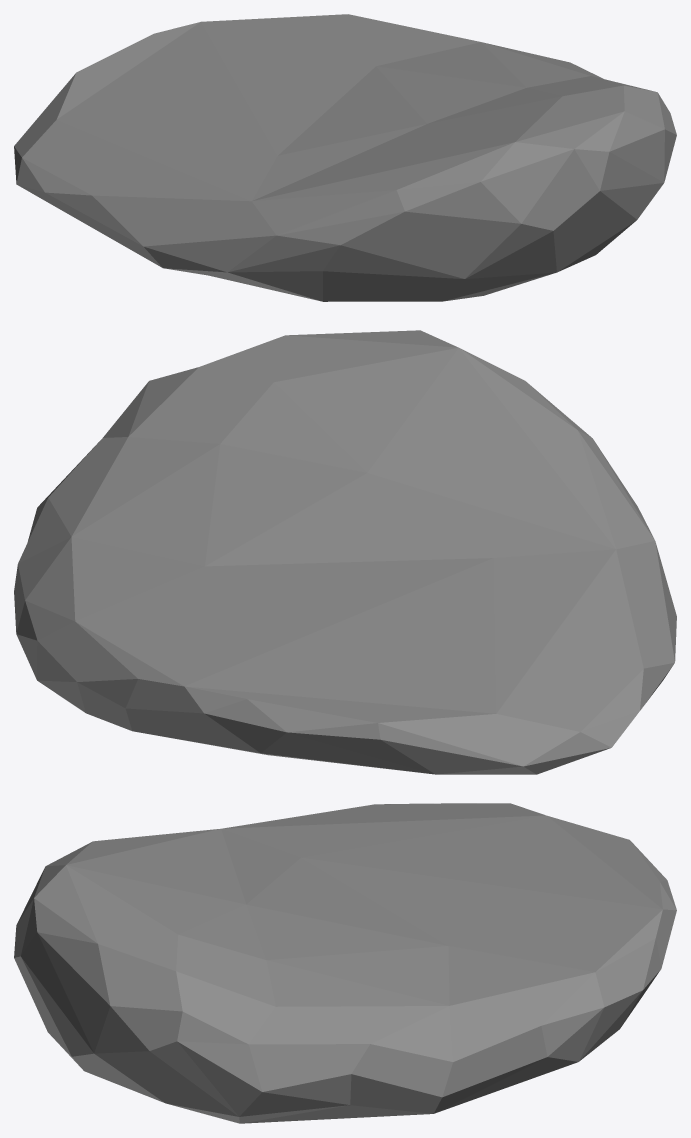
Rendered from Rock_Small_2.glb.
The picture shows the model from 3 angles, top to bottom: view 1: azimuth 30°, elevation 25°; view 2: azimuth 150°, elevation 25°; view 3: azimuth 270°, elevation 25°; orthographic projection. The views are drawn at different scales.
Parts seen in each view (by area): view 1: Rock_Small_2; view 2: Rock_Small_2; view 3: Rock_Small_2.
Part boxes in pixels (x1=…): Rock_Small_2: x1=14, y1=14, x2=676, y2=301; Rock_Small_2: x1=14, y1=330, x2=676, y2=774; Rock_Small_2: x1=14, y1=803, x2=676, y2=1123.
Bounding box in the file's own units: 1.45 × 0.4204 × 1.4.
1 material, 1 textured.
